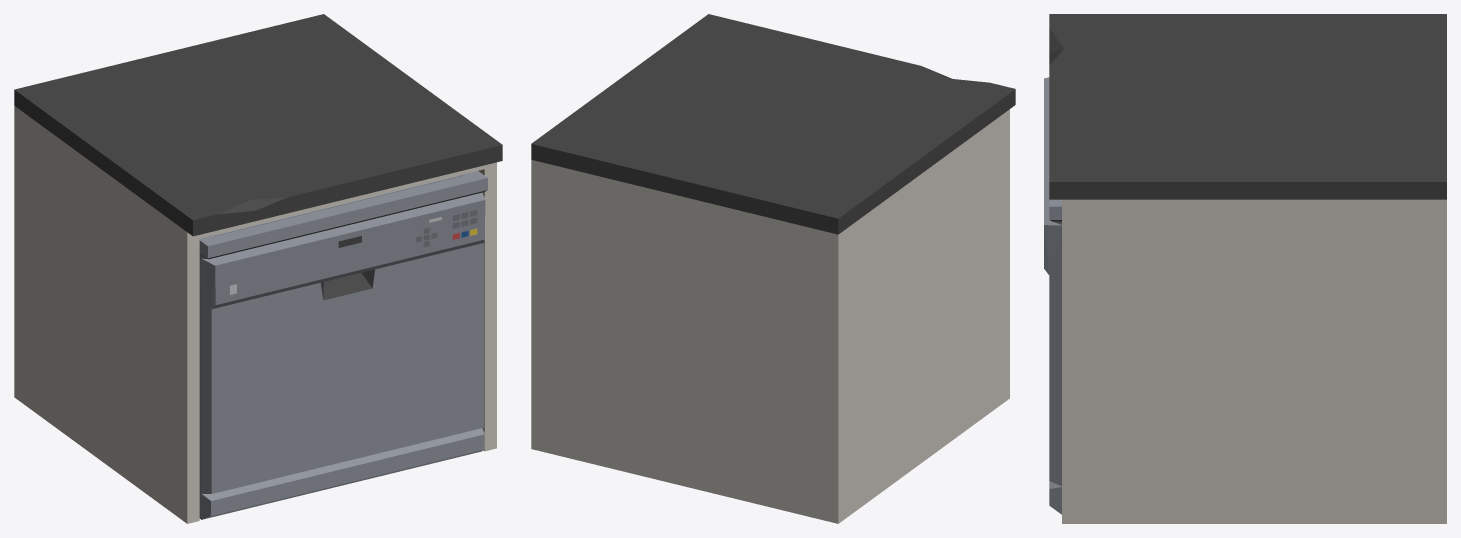
File: SM_Prop_Kitchen_CounterWashing_01.fbx
3 views of the same model, side by side, from view 1: azimuth 30°, elevation 25°; view 2: azimuth 150°, elevation 25°; view 3: azimuth 270°, elevation 25° (orthographic). The views are drawn at different scales.
Parts seen in each view (by area): view 1: SM_Prop_Kitchen_CounterWashing_01, SM_Prop_Kitchen_CounterWashing_Machine_01_Door, SM_Prop_Kitchen_CounterWashing_Machine_01; view 2: SM_Prop_Kitchen_CounterWashing_01; view 3: SM_Prop_Kitchen_CounterWashing_01, SM_Prop_Kitchen_CounterWashing_Machine_01_Door, SM_Prop_Kitchen_CounterWashing_Machine_01.
Part boxes in pixels (left/top/right/bottom): SM_Prop_Kitchen_CounterWashing_01: left=14, top=14, right=502, bottom=523; SM_Prop_Kitchen_CounterWashing_Machine_01_Door: left=201, top=192, right=485, bottom=493; SM_Prop_Kitchen_CounterWashing_Machine_01: left=199, top=171, right=487, bottom=519; SM_Prop_Kitchen_CounterWashing_01: left=531, top=14, right=1015, bottom=523; SM_Prop_Kitchen_CounterWashing_01: left=1049, top=14, right=1446, bottom=523; SM_Prop_Kitchen_CounterWashing_Machine_01_Door: left=1044, top=77, right=1061, bottom=485; SM_Prop_Kitchen_CounterWashing_Machine_01: left=1049, top=199, right=1061, bottom=514.
Size of the model in its own units: 100 by 94.96 by 101.
